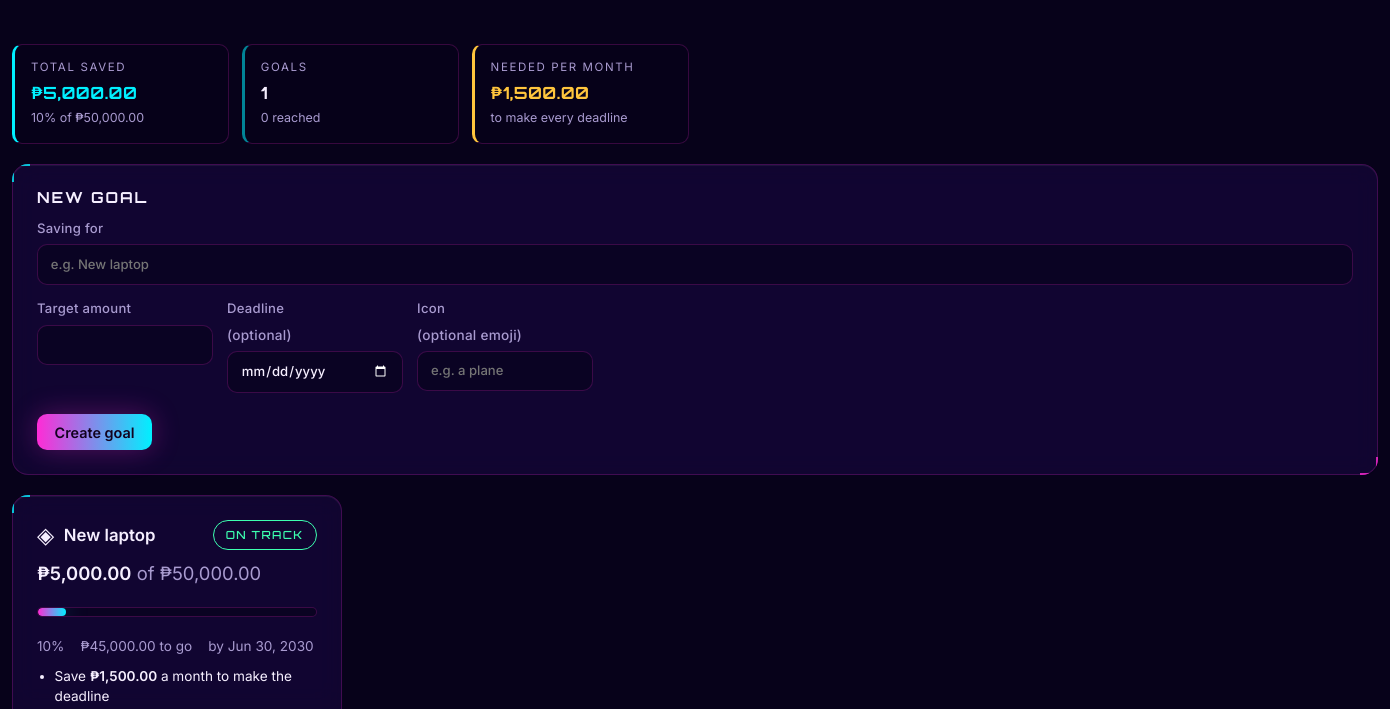
SavingsApp › creates a goal
This screenshot has width=1390, height=709.
Type "Japan trip" into the field labelled "Saving for" at (695, 264), box [37,244,1353,285]
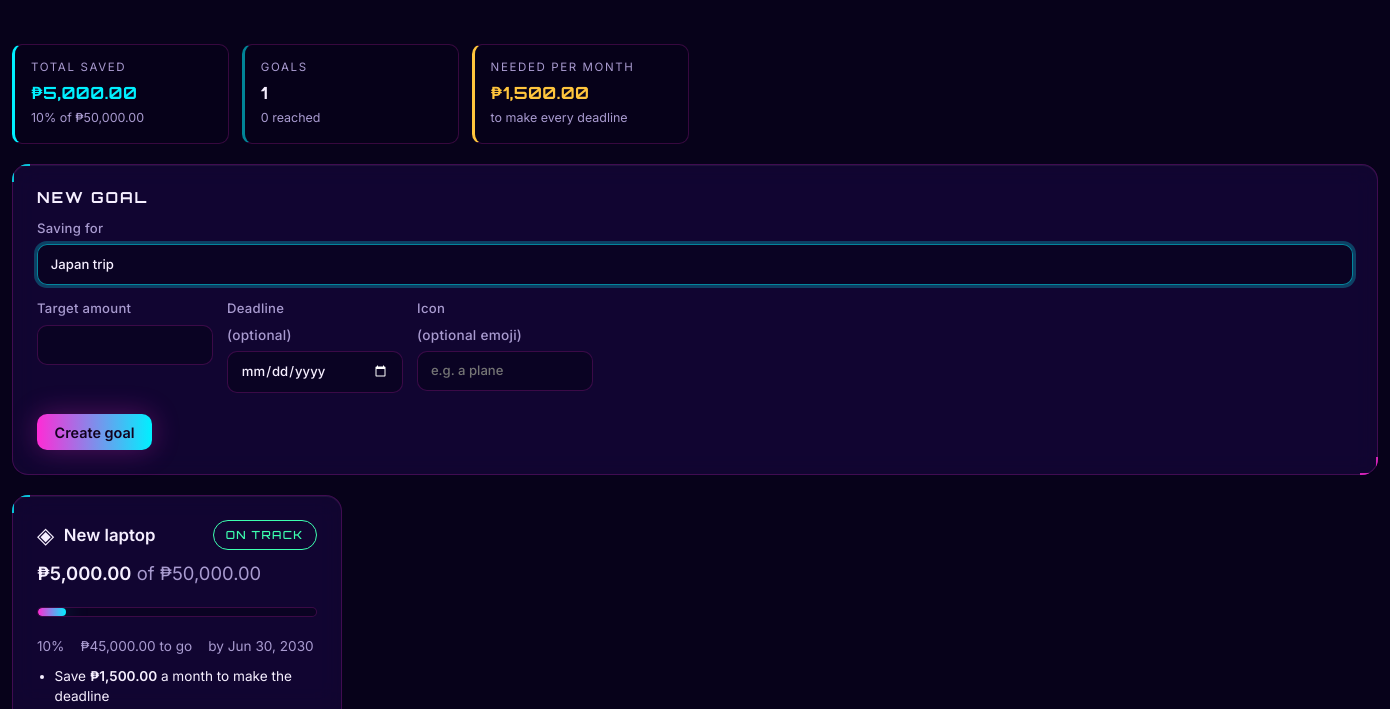
Type "80000" into the number field labelled "Target amount" at (125, 345), box [37,324,213,365]
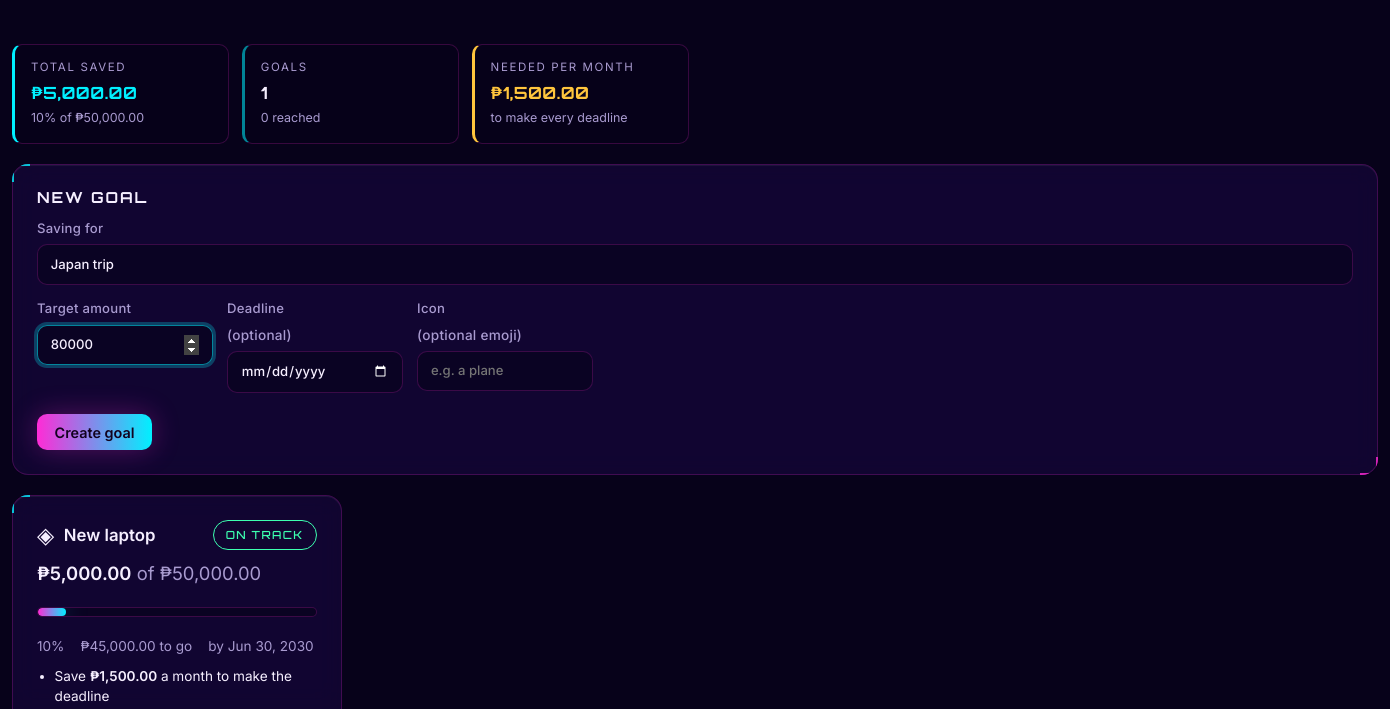
Click the button "Create goal" at (95, 432), box [37,414,152,450]
(page scrolled)
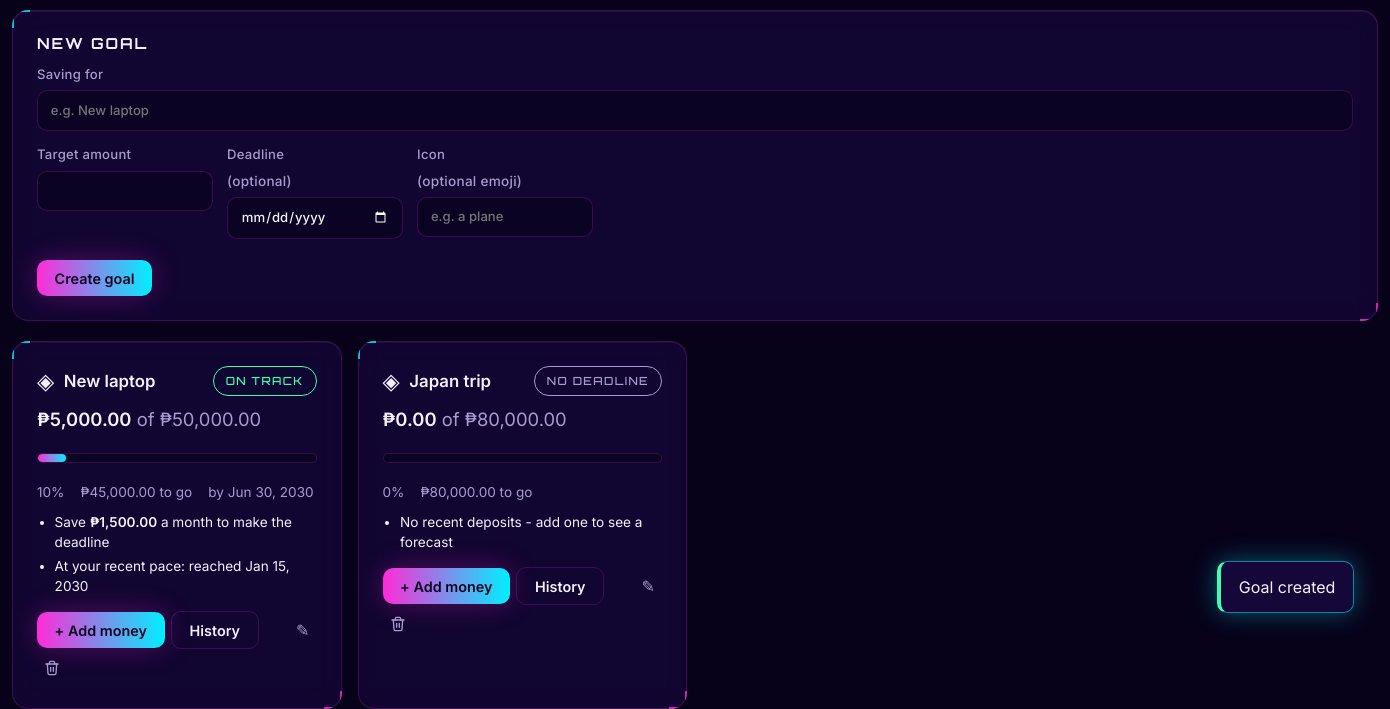
Check: the element "Japan trip" is shown, box [358,341,687,708]
